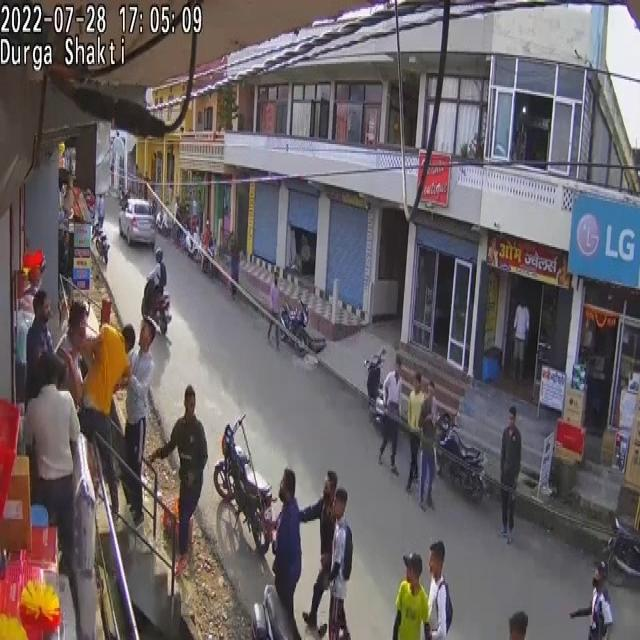fight: (21, 350, 83, 594), (78, 314, 133, 525), (148, 378, 208, 570), (128, 322, 161, 520), (271, 469, 307, 637), (321, 489, 354, 638), (26, 291, 57, 403)
non-fight: (391, 551, 428, 640), (499, 406, 521, 544), (378, 358, 402, 472), (424, 540, 451, 640), (418, 384, 438, 508), (405, 373, 425, 494), (144, 252, 168, 323), (512, 299, 530, 381), (266, 272, 283, 350), (228, 232, 240, 297), (201, 220, 212, 273), (97, 193, 105, 230), (173, 196, 181, 226)
